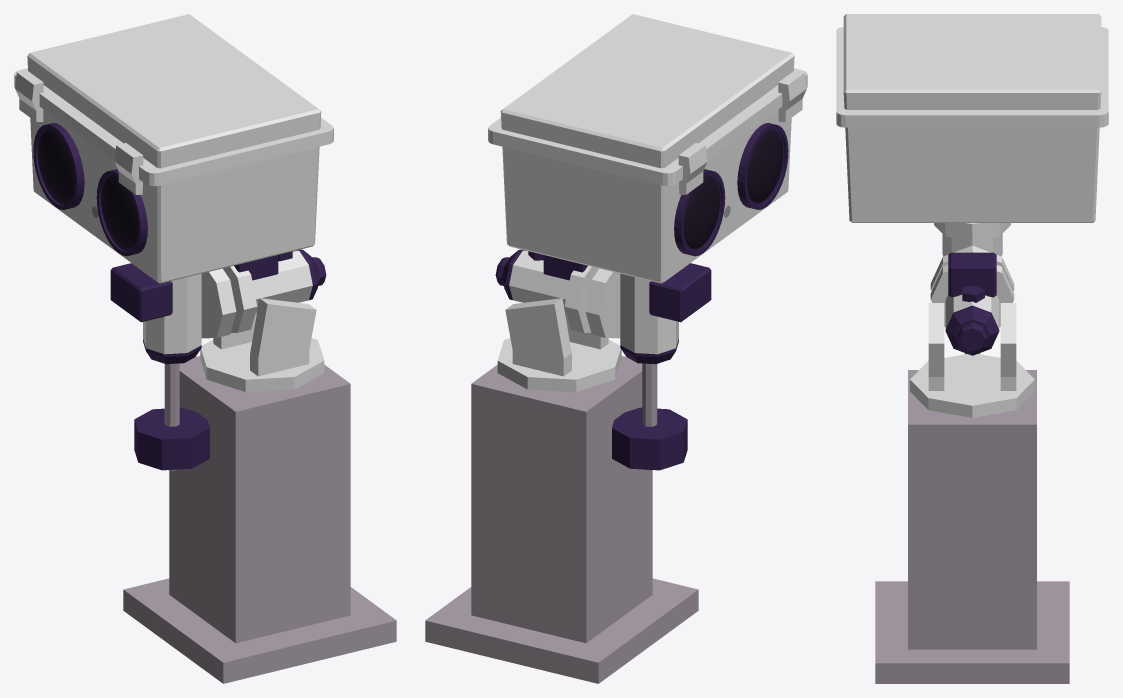
File: unit.glb
3 views of the same model, side by side, from view 1: azimuth 30°, elevation 25°; view 2: azimuth 150°, elevation 25°; view 3: azimuth 270°, elevation 25° (orthographic). The views are drawn at different scales.
Visible parts, largest first — view 1: Cube.007, box_textured, Cylinder, Cylinder.003, Cube.009, Cylinder.002, Sphere, Cylinder.011, Cube.010; view 2: Cube.007, box_textured, Cylinder, Cylinder.003, Cube.009, Cylinder.002, Sphere, Cylinder.011, Cube.010; view 3: box_textured, Cube.007, Cylinder.003, Cube.009, Cylinder.002, Cylinder, Cube.004.
Part boxes in pixels (x1,y1,x2,y2): Cube.007: [123, 356, 396, 683]; box_textured: [27, 14, 321, 283]; Cylinder: [110, 263, 236, 470]; Cylinder.003: [200, 298, 324, 392]; Cube.009: [14, 68, 333, 186]; Cylinder.002: [223, 249, 326, 332]; Sphere: [38, 130, 138, 248]; Cylinder.011: [33, 123, 147, 256]; Cube.010: [15, 70, 143, 194]; Cube.007: [425, 356, 698, 683]; box_textured: [500, 14, 794, 283]; Cylinder: [585, 263, 711, 470]; Cylinder.003: [497, 298, 621, 392]; Cube.009: [488, 68, 807, 186]; Cylinder.002: [495, 249, 598, 332]; Sphere: [683, 130, 783, 248]; Cylinder.011: [674, 123, 788, 256]; Cube.010: [678, 70, 806, 194]; box_textured: [843, 14, 1101, 222]; Cube.007: [875, 370, 1069, 683]; Cylinder.003: [910, 303, 1034, 417]; Cube.009: [836, 27, 1108, 127]; Cylinder.002: [930, 252, 1014, 355]; Cylinder: [930, 234, 1014, 354]; Cube.004: [934, 223, 1010, 241].
Size of the model in its own units: 0.5801 by 1.15 by 0.5153.
Materials: 6 (1 with a texture image).
